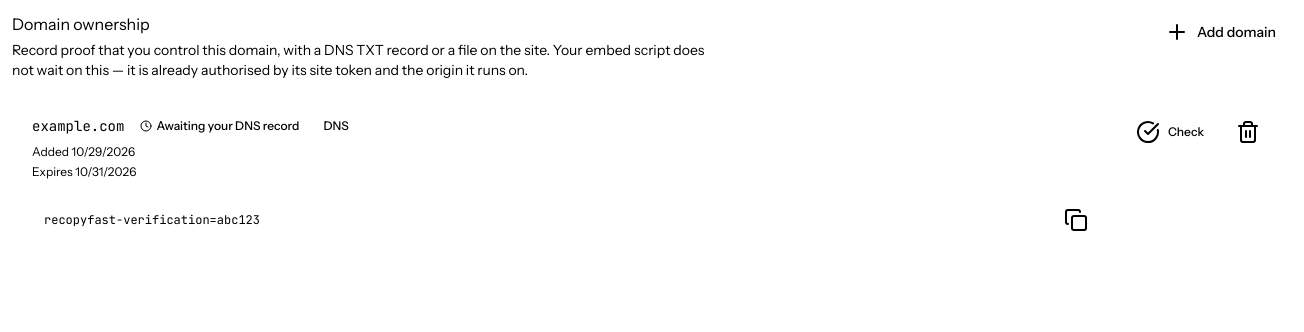
Test: DomainVerification › surfaces the reason a check failed instead of silently doing nothing
This screenshot has width=1304, height=332.
Check: the heading "example.com" is shown, box [32, 116, 124, 136]
Click the button "Check". click: click(1170, 132)
box: [1124, 116, 1216, 148]
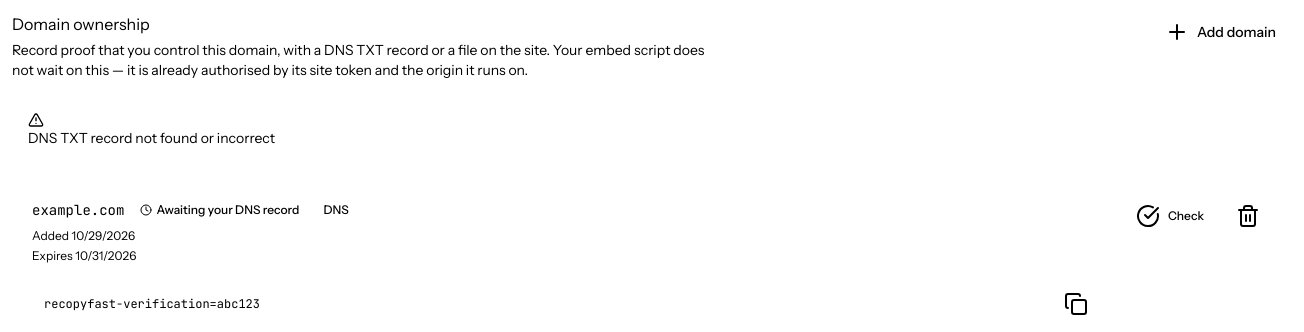
Check: the text "DNS TXT record not found or incorrect" is shown, box [28, 129, 275, 147]
